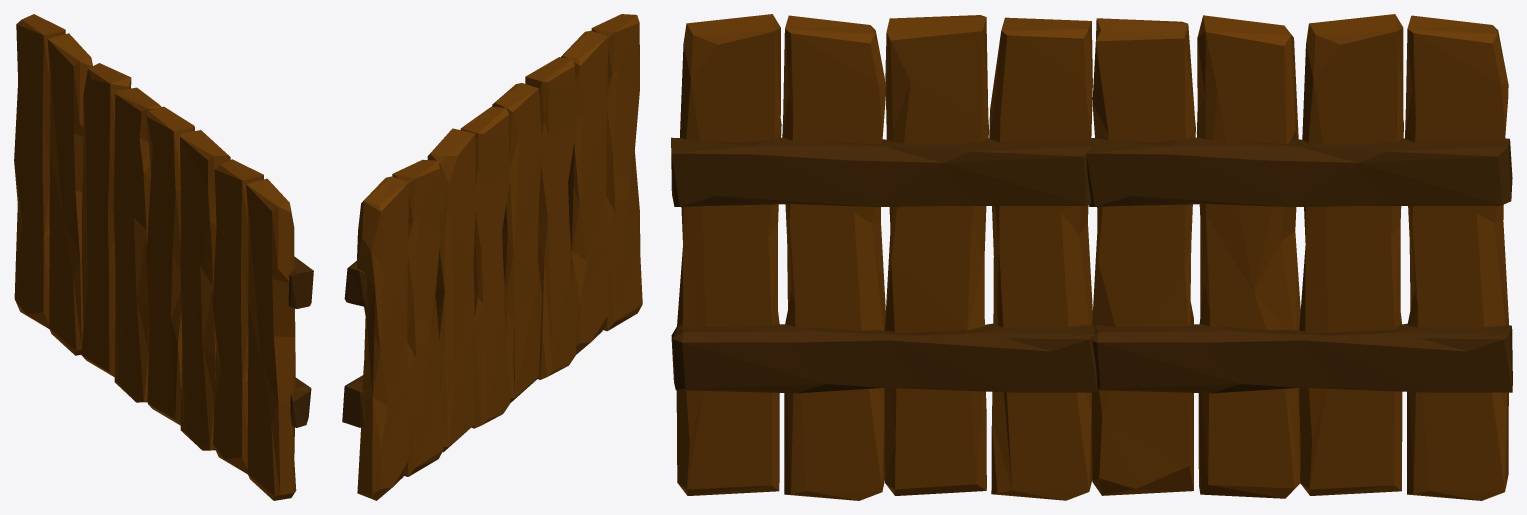
Rendered from PicketFence 2M.fbx.
3 renders of one model, left to right at view 1: azimuth 30°, elevation 25°; view 2: azimuth 150°, elevation 25°; view 3: azimuth 270°, elevation 25°, orthographic. The views are drawn at different scales.
Visible parts, largest first — view 1: Cube.007, Cube.008, Cube.016, Cube.009, Cube.006, Cube.015, Cube.011, Cube.010, Cube.001, Cube.002; view 2: Cube.015, Cube.010, Cube.006, Cube.008, Cube.011, Cube.009, Cube.007, Cube.016, Cube.018, Cube.017; view 3: Cube.008, Cube.016, Cube.006, Cube.010, Cube.007, Cube.015, Cube.011, Cube.009, Cube.017, Cube.001, Cube.002, Cube.018.
Boxes of the visible parts, bbox=[...] form: Cube.007: bbox=[246, 178, 296, 500]; Cube.008: bbox=[180, 130, 230, 450]; Cube.016: bbox=[47, 33, 92, 355]; Cube.009: bbox=[113, 87, 161, 402]; Cube.006: bbox=[212, 159, 263, 474]; Cube.015: bbox=[14, 14, 65, 328]; Cube.011: bbox=[146, 106, 194, 425]; Cube.010: bbox=[81, 63, 131, 376]; Cube.001: bbox=[288, 256, 313, 308]; Cube.002: bbox=[290, 377, 311, 427]; Cube.015: bbox=[357, 176, 409, 500]; Cube.010: bbox=[427, 128, 475, 452]; Cube.006: bbox=[561, 30, 608, 354]; Cube.008: bbox=[525, 57, 576, 379]; Cube.011: bbox=[492, 83, 542, 402]; Cube.009: bbox=[460, 106, 511, 428]; Cube.007: bbox=[591, 14, 642, 331]; Cube.016: bbox=[392, 159, 443, 476]; Cube.018: bbox=[342, 375, 365, 427]; Cube.017: bbox=[344, 261, 367, 306]; Cube.008: bbox=[884, 15, 988, 495]; Cube.016: bbox=[1299, 14, 1403, 495]; Cube.006: bbox=[782, 15, 885, 500]; Cube.010: bbox=[1196, 15, 1300, 498]; Cube.007: bbox=[676, 14, 781, 495]; Cube.015: bbox=[1405, 15, 1508, 500]; Cube.011: bbox=[989, 17, 1092, 500]; Cube.009: bbox=[1092, 18, 1195, 495]; Cube.017: bbox=[1086, 137, 1512, 207]; Cube.001: bbox=[671, 137, 1094, 207]; Cube.002: bbox=[671, 323, 1097, 393]; Cube.018: bbox=[1092, 323, 1512, 393].
Size of the model in its own units: 32.21 by 250 by 406.
